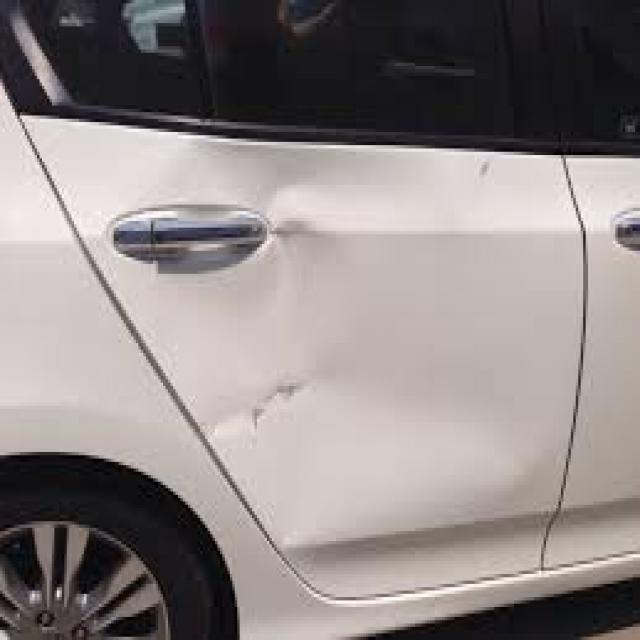minor: (181, 174, 458, 566)
